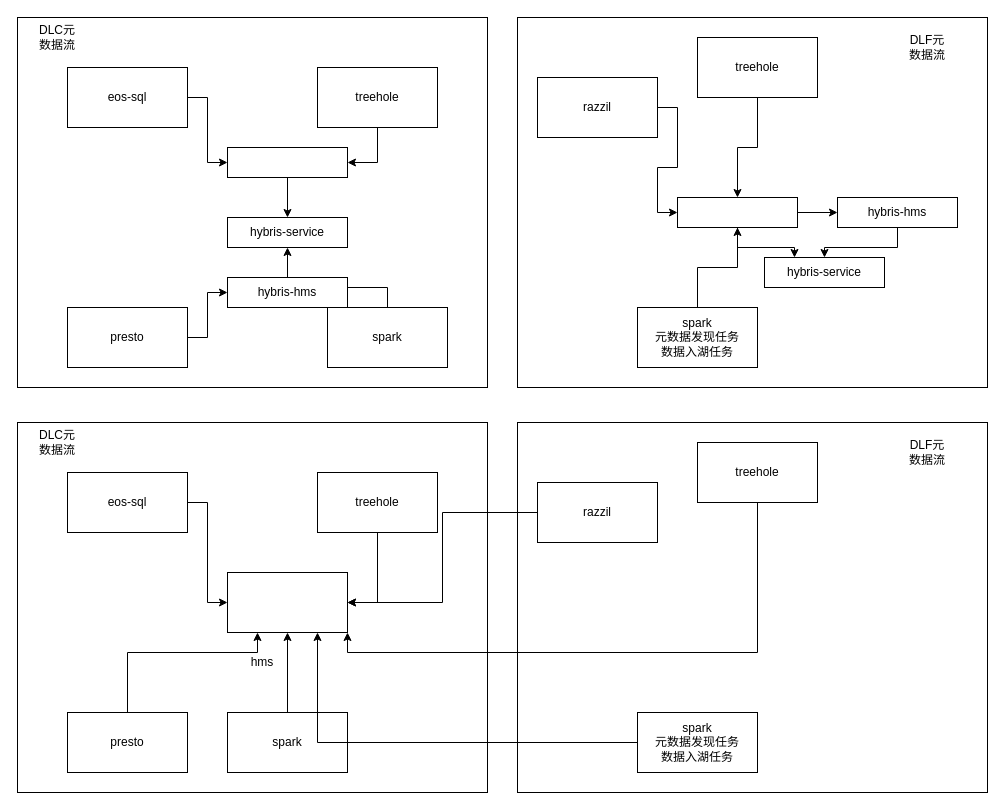
Image size: 1005x810. Some labels were removed from this diagram. The centre of each missing label's shape, as x and y in pixels:
hybris: [287,602]
hybris-center: [737,212]
hybris-dlc-center: [287,162]
